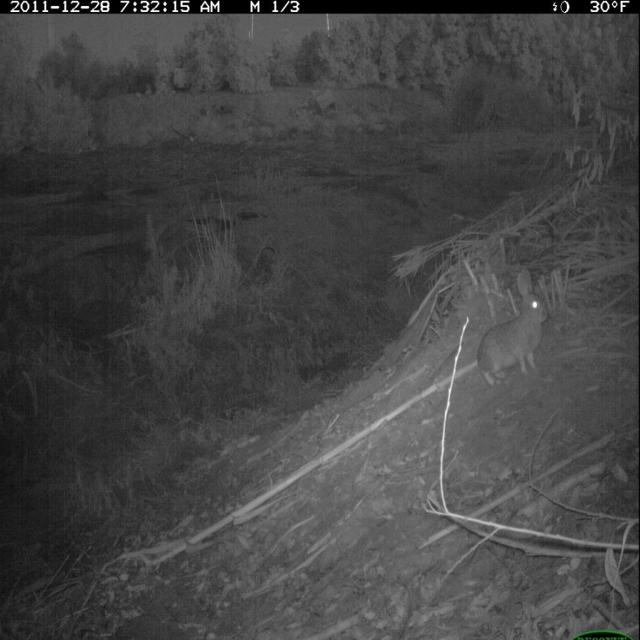rabbit: (474, 263, 553, 394)
